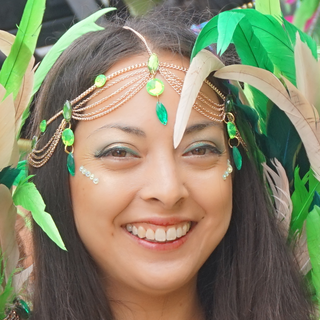eye: (90, 138, 143, 169), (177, 139, 224, 163)
